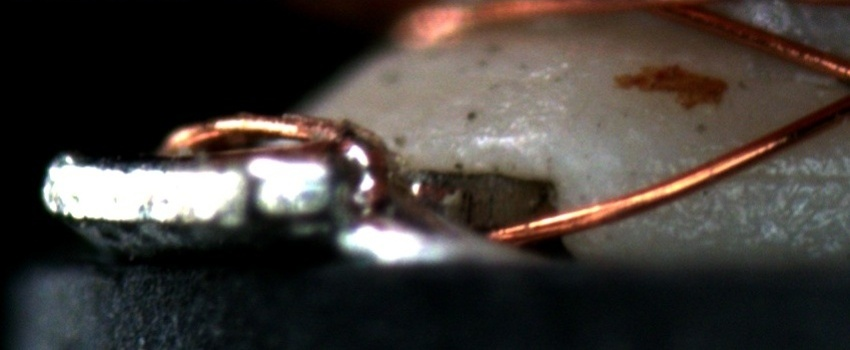CL: (811, 47, 850, 130)
DL: (695, 147, 849, 211), (415, 114, 600, 159)
TE: (146, 111, 343, 160)
